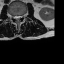CCS_normal: (16, 13, 18, 23)
LFS_normal: (20, 12, 23, 20)
LLS_normal: (18, 13, 20, 21)
RFS_normal: (12, 13, 14, 20)
RLS_normal: (14, 13, 16, 21)
